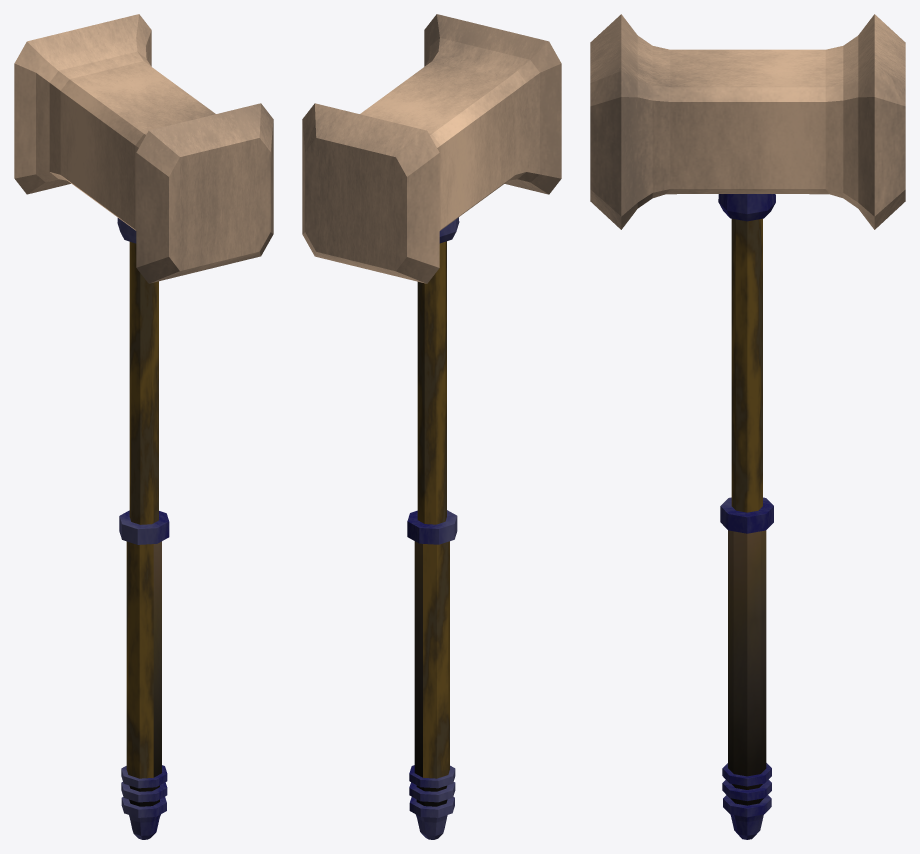
Rendered from Inquisidor.fbx.
3 views of the same model, side by side, from view 1: azimuth 30°, elevation 25°; view 2: azimuth 150°, elevation 25°; view 3: azimuth 270°, elevation 25° (orthographic). The views are drawn at different scales.
Visible parts, largest first — view 1: Inquisidor; view 2: Inquisidor; view 3: Inquisidor.
Boxes of the visible parts, left/top/right/bottom form: Inquisidor: left=14, top=14, right=273, bottom=839; Inquisidor: left=302, top=14, right=561, bottom=839; Inquisidor: left=590, top=14, right=905, bottom=839.
Size of the model in its own units: 27.98 by 149 by 53.64.
